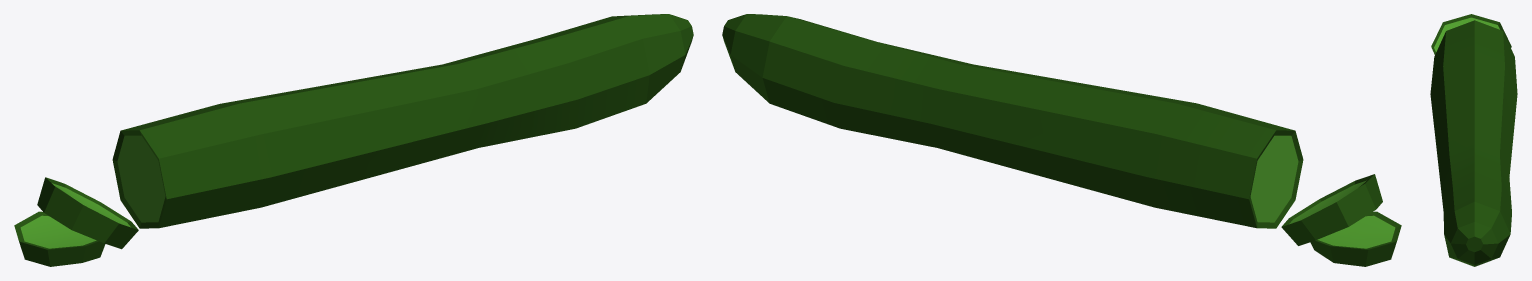
The model's file is cucumber_sliced_parts_of.fbx.
3 renders of one model, left to right at view 1: azimuth 30°, elevation 25°; view 2: azimuth 150°, elevation 25°; view 3: azimuth 270°, elevation 25°, orthographic. The views are drawn at different scales.
Parts seen in each view (by area): view 1: Cucumber_Sliced; view 2: Cucumber_Sliced; view 3: Cucumber_Sliced.
Boxes of the visible parts, box(x1,y1,x2,y2) form: Cucumber_Sliced: box(14, 14, 693, 266); Cucumber_Sliced: box(722, 14, 1401, 266); Cucumber_Sliced: box(1430, 14, 1517, 266).
Size of the model in its own units: 11.3 by 1.7 by 1.72.
